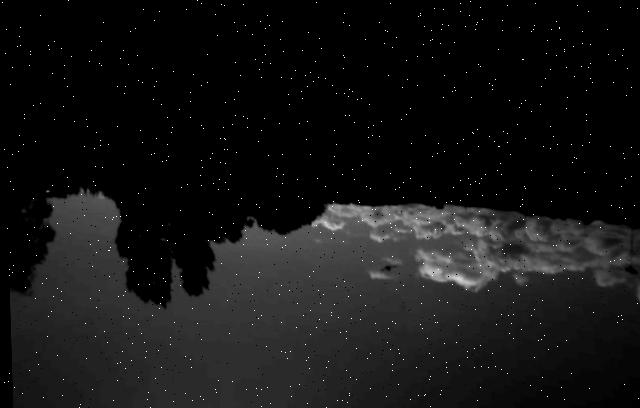drone: (378, 257, 396, 268)
